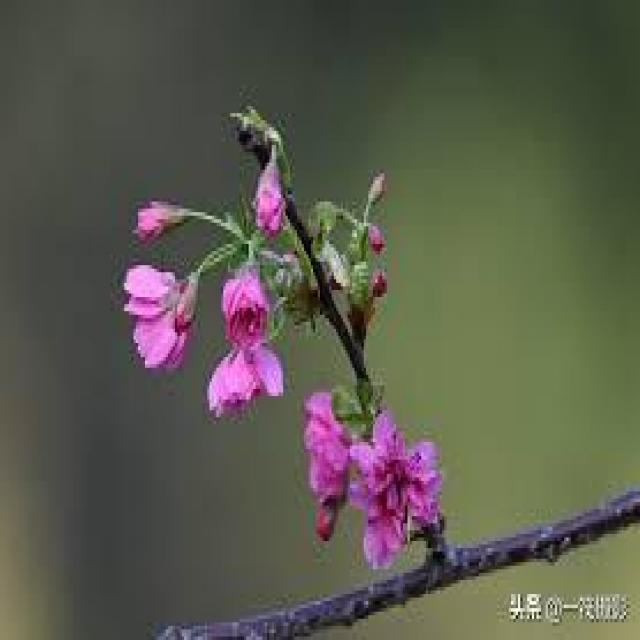organic waste: (357, 432, 456, 576), (204, 253, 291, 408), (304, 380, 387, 525), (119, 254, 194, 386)
